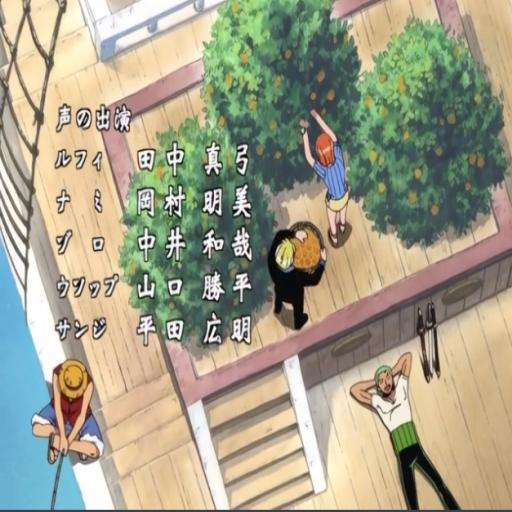Luffy: (30, 361, 102, 465)
Nami: (296, 109, 361, 250)
Zoro: (348, 341, 464, 512)
sanji: (263, 220, 325, 339)
